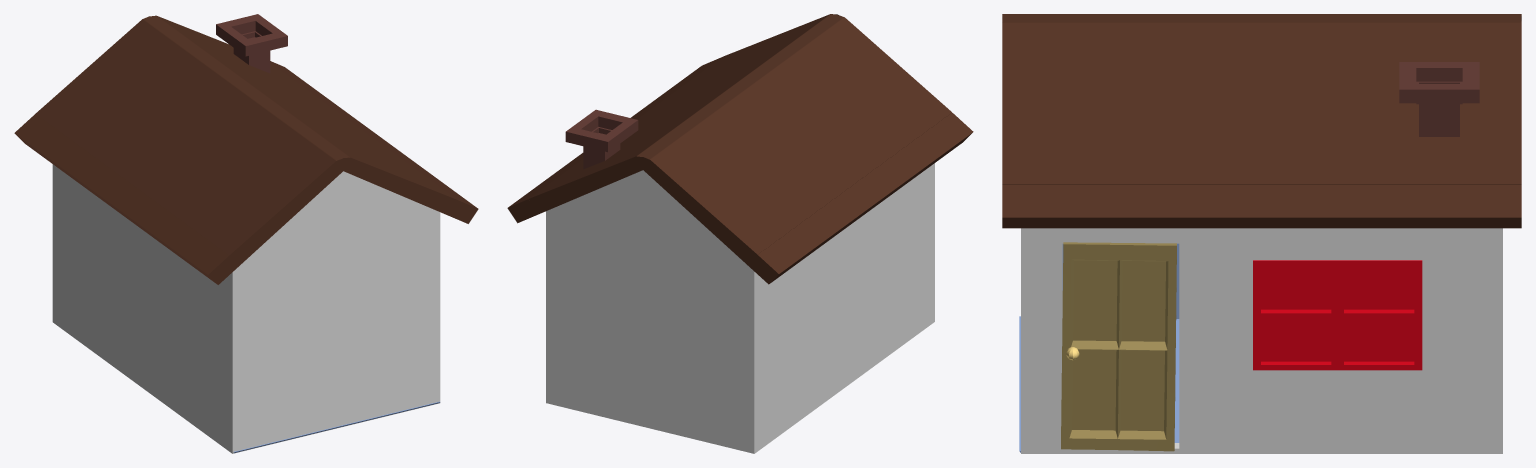
File: whitehouse22forstuff.fbx
The picture shows the model from 3 angles, left to right: view 1: azimuth 30°, elevation 25°; view 2: azimuth 150°, elevation 25°; view 3: azimuth 270°, elevation 25°; orthographic projection. The views are drawn at different scales.
Visible parts, largest first — view 1: Cube, Roof, Cube.001; view 2: Cube, Roof, Cube.001; view 3: Roof, Cube, Cube.006, window, Cube.001, Cube.005.
Boxes of the visible parts, bbox=[...] form: Cube: bbox=[52, 164, 440, 453]; Roof: bbox=[14, 15, 478, 284]; Cube.001: bbox=[216, 14, 287, 73]; Cube: bbox=[546, 163, 934, 453]; Roof: bbox=[507, 14, 973, 284]; Cube.001: bbox=[565, 109, 638, 169]; Roof: bbox=[1002, 14, 1521, 228]; Cube: bbox=[1021, 228, 1502, 453]; Cube.006: bbox=[1061, 242, 1176, 451]; window: bbox=[1253, 260, 1422, 370]; Cube.001: bbox=[1399, 62, 1479, 136]; Cube.005: bbox=[1019, 316, 1179, 452].
Bounding box in the file's own units: 521 × 507 × 646.
